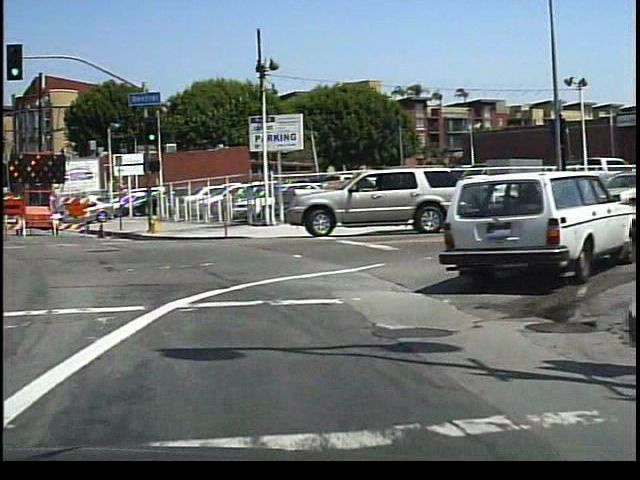person: (563, 161, 582, 205)
